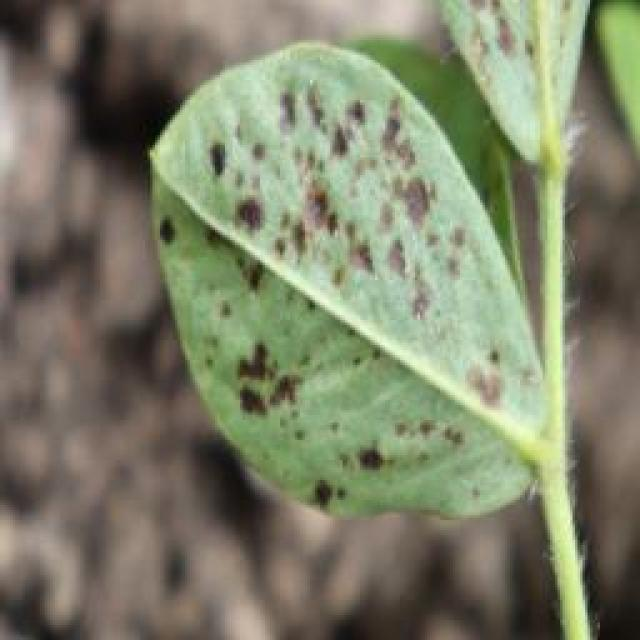Whitefly: (116, 5, 600, 548)
